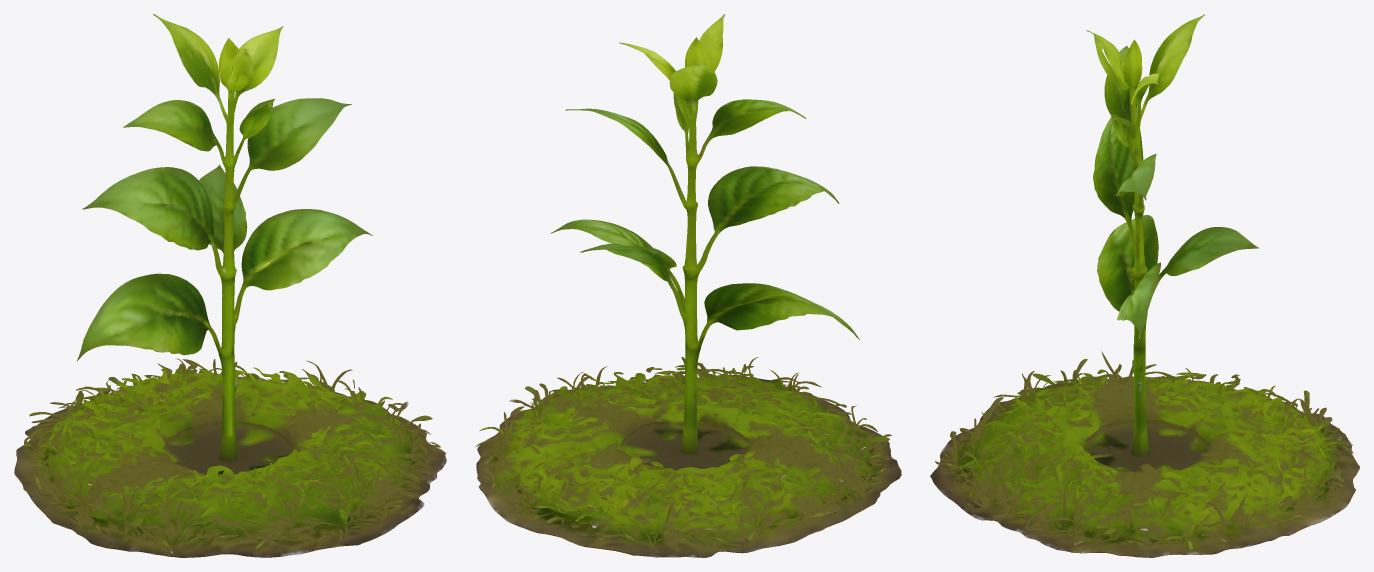
Rendered from base_basic_shaded.fbx.
3 renders of one model, left to right at view 1: azimuth 30°, elevation 25°; view 2: azimuth 150°, elevation 25°; view 3: azimuth 270°, elevation 25°, orthographic. The views are drawn at different scales.
Parts seen in each view (by area): view 1: model; view 2: model; view 3: model.
Boxes of the visible parts, x1,y1,x2,y2 form: model: (14, 14, 446, 557); model: (475, 14, 901, 557); model: (930, 14, 1359, 557).
Bounding box in the file's own units: 164 × 190 × 168.
